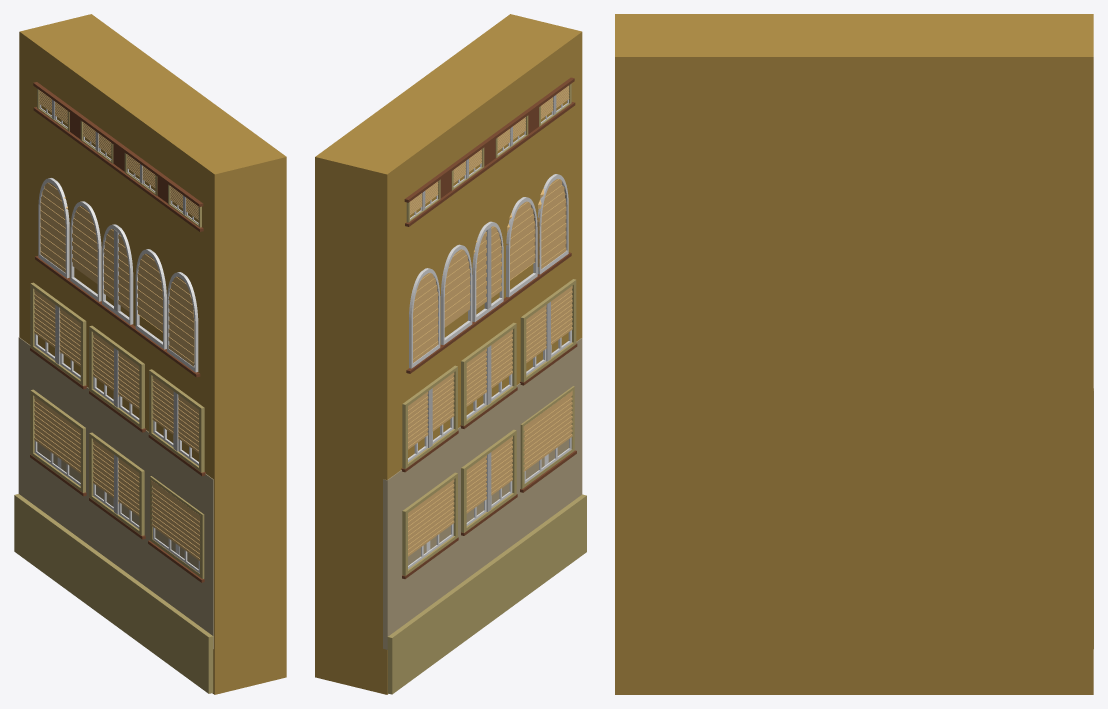
Rendered from puerta_antigua_extremo.fbx.
3 views of the same model, side by side, from view 1: azimuth 30°, elevation 25°; view 2: azimuth 150°, elevation 25°; view 3: azimuth 270°, elevation 25° (orthographic). The views are drawn at different scales.
Parts seen in each view (by area): view 1: Cubo.001, Cube.006, Cube, Cube.123, Cube.113, Cube.074, Cube.069, Cube.013, Cube.009, Cube.077, Cube.001, Cube.116 (+20 smaller); view 2: Cubo.001, Cube.006, Cube, Cube.123, Cube.074, Cube.113, Cube.069, Cube.009, Cube.013, Cube.077, Cube.037, Cube.007 (+21 smaller); view 3: Cubo.001.
Boxes of the visible parts, <box> form: Cubo.001: <box>19,14,286,694</box>; Cube.006: <box>18,337,213,648</box>; Cube: <box>14,494,213,693</box>; Cube.123: <box>151,480,200,560</box>; Cube.113: <box>34,396,80,473</box>; Cube.074: <box>168,276,194,366</box>; Cube.069: <box>40,182,67,272</box>; Cube.013: <box>72,206,97,283</box>; Cube.009: <box>137,253,162,332</box>; Cube.077: <box>103,229,129,311</box>; Cube.001: <box>30,282,86,385</box>; Cube.116: <box>30,389,85,492</box>; Cubo.001: <box>315,14,582,694</box>; Cube.006: <box>383,338,582,649</box>; Cube: <box>387,494,586,694</box>; Cube.123: <box>523,391,572,471</box>; Cube.074: <box>537,179,566,270</box>; Cube.113: <box>408,479,454,556</box>; Cube.069: <box>413,273,438,362</box>; Cube.009: <box>506,201,535,280</box>; Cube.013: <box>442,249,470,327</box>; Cube.077: <box>473,226,501,308</box>; Cube.037: <box>520,279,576,382</box>; Cube.007: <box>461,322,516,425</box>; Cubo.001: <box>615,14,1093,694</box>.
Bounding box in the file's own units: 974 × 6271 × 4267.
